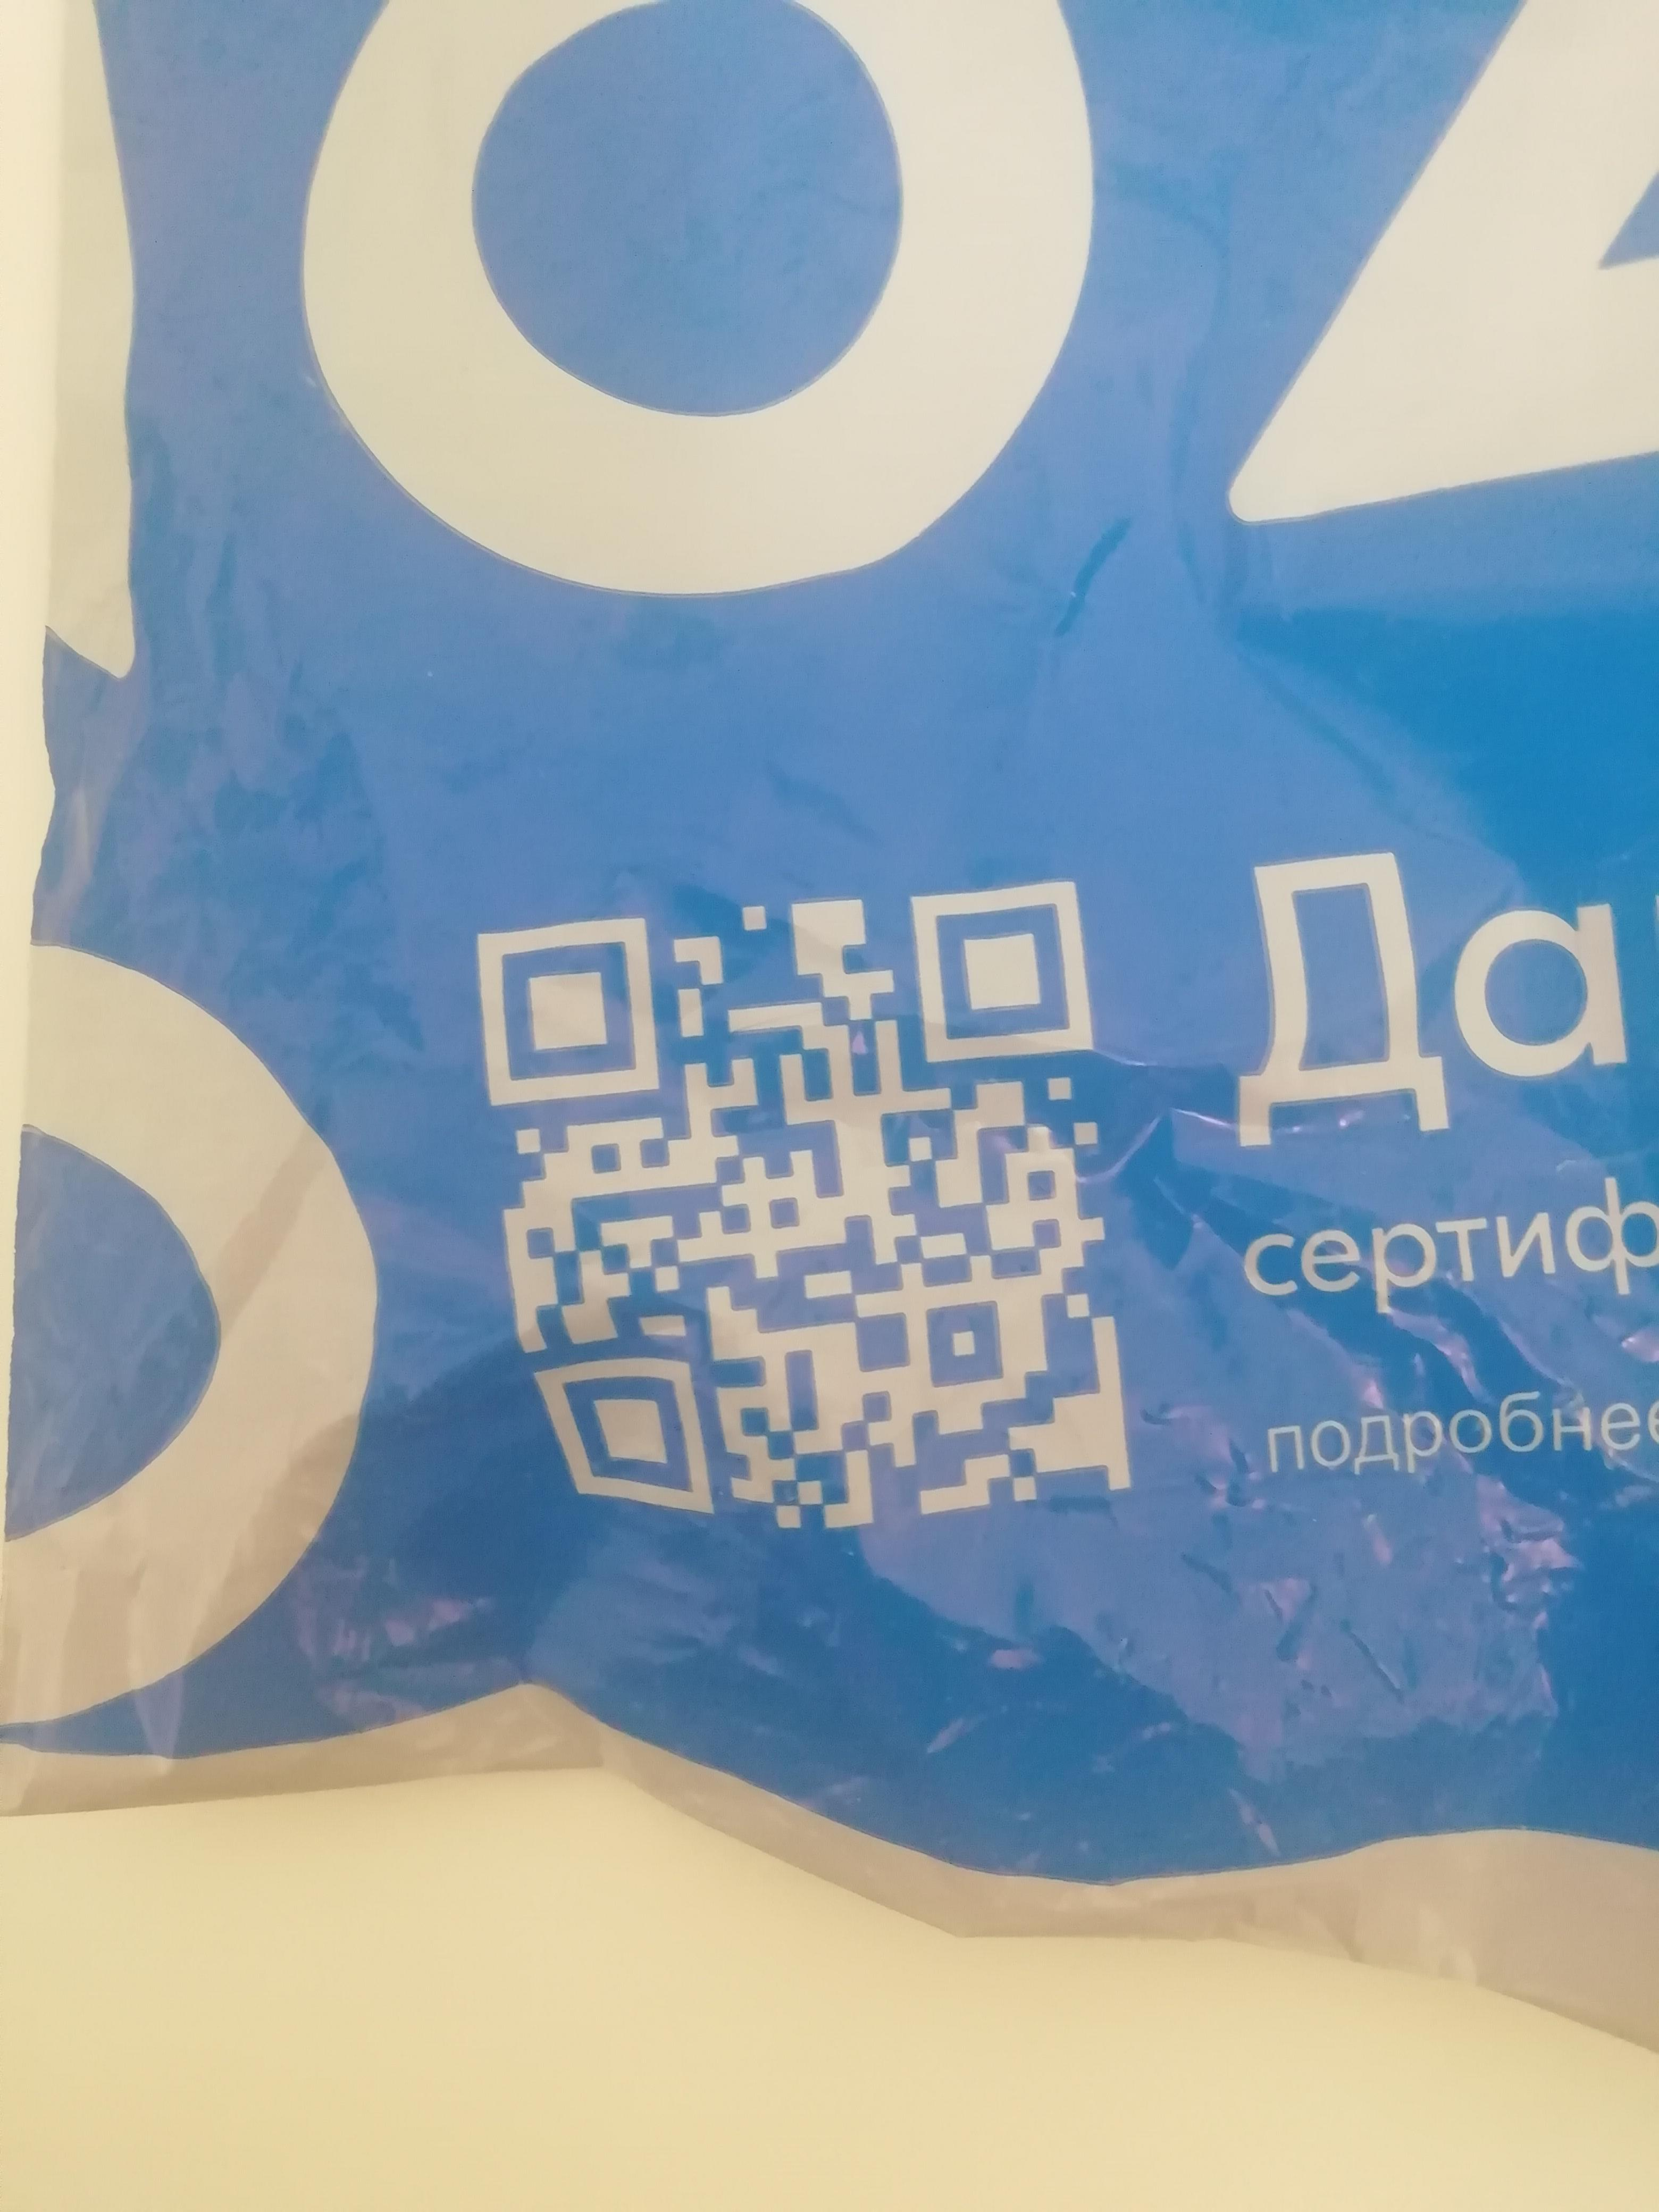qrcode: (474, 883, 1138, 1533)
